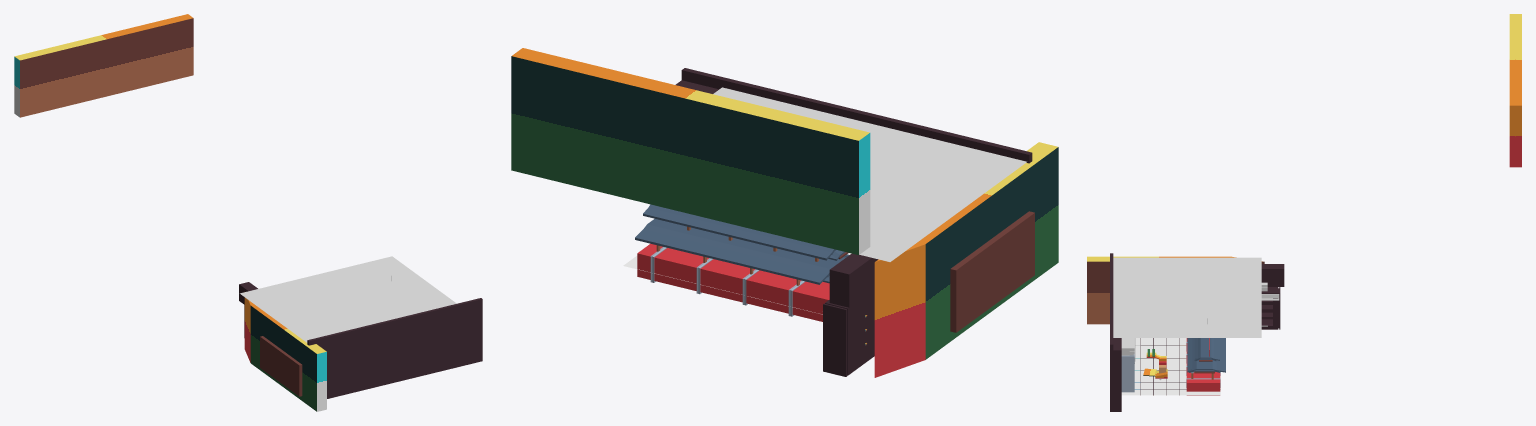
File: Biedra.fbx
3 renders of one model, left to right at view 1: azimuth 30°, elevation 25°; view 2: azimuth 150°, elevation 25°; view 3: azimuth 270°, elevation 25°, orthographic. The views are drawn at different scales.
Visible parts, largest first — view 1: Cube.006, Cube.005, Plane.002, Cube.007, Cube.003; view 2: Cube.006, Cube.007, Plane.002, Cube.001, Cube.003, Cube.022, Cube.005, Cube.013, Cube.024, Cube.028; view 3: Plane.002, Plane, Cube.006, Cube.007, Cube.005, Cube.001, Cube.022, Cube.013, Cube.024, Cube, Cube.028, Cube.002.
Part boxes in pixels (x1,y1,x2,y2): Cube.006: (14,14,193,117); Cube.005: (307,298,482,398); Plane.002: (240,256,456,342); Cube.007: (244,297,326,411); Cube.003: (260,336,302,396); Cube.006: (511,48,870,255); Cube.007: (874,142,1058,377); Plane.002: (713,87,1026,261); Cube.001: (637,243,829,321); Cube.003: (950,211,1034,332); Cube.022: (635,219,849,284); Cube.005: (675,68,1032,163); Cube.013: (823,289,874,376); Cube.024: (643,204,845,260); Cube.028: (829,253,878,307); Plane.002: (1113,257,1261,337); Plane: (1121,338,1220,395); Cube.006: (1509,14,1521,167); Cube.007: (1087,256,1264,324); Cube.005: (1110,253,1121,411); Cube.001: (1186,338,1220,395); Cube.022: (1187,338,1225,372); Cube.013: (1261,287,1280,329); Cube.024: (1194,338,1219,360); Cube: (1121,354,1134,392); Cube.028: (1261,264,1284,286); Cube.002: (1143,349,1167,378).
Size of the model in its own units: 5657 by 4536 by 7103.
